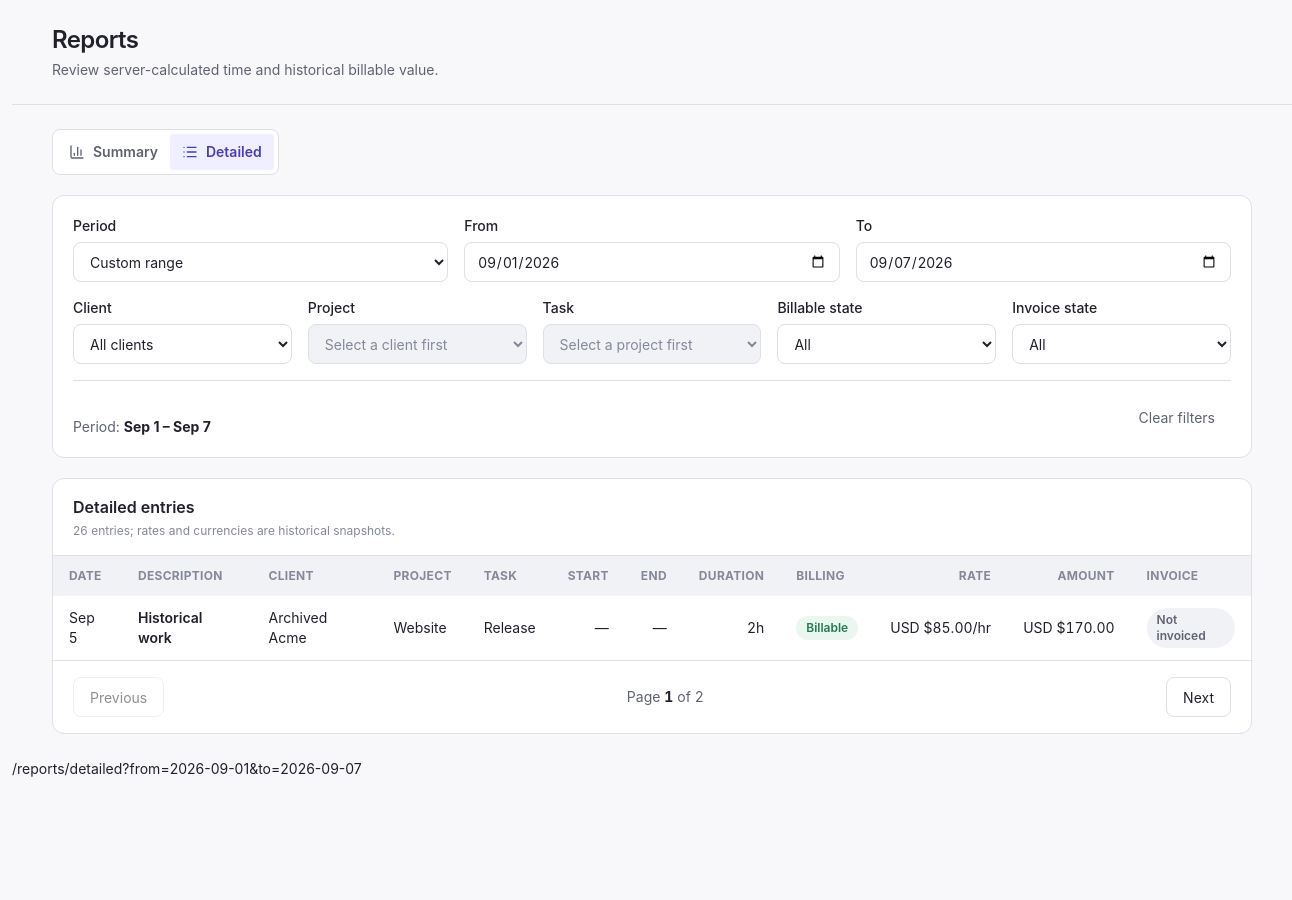
Test: ReportsPage › renders a semantic paginated Detailed table without fabricated duration timestamps
This screenshot has width=1292, height=900.
Expected: the column heading "Description" is shown, [122,556,253,596]
Expected: the cell "Historical work" is shown, [122,596,253,660]
Click the button "Next" at {"x": 1199, "y": 697}, box [1166,677,1231,717]
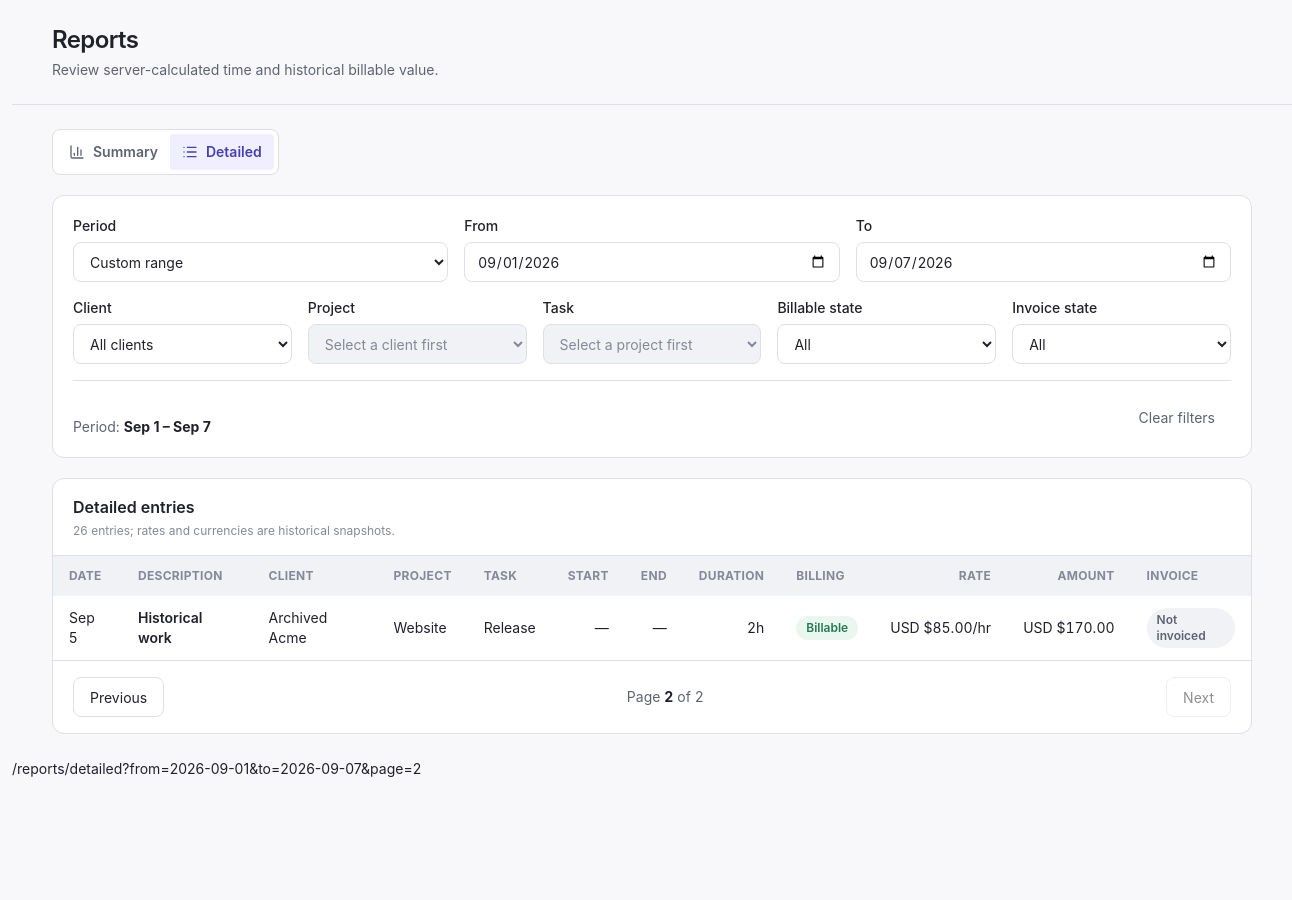
Expected: the text with test id "location" shows "page=2", [122,760,421,777]
